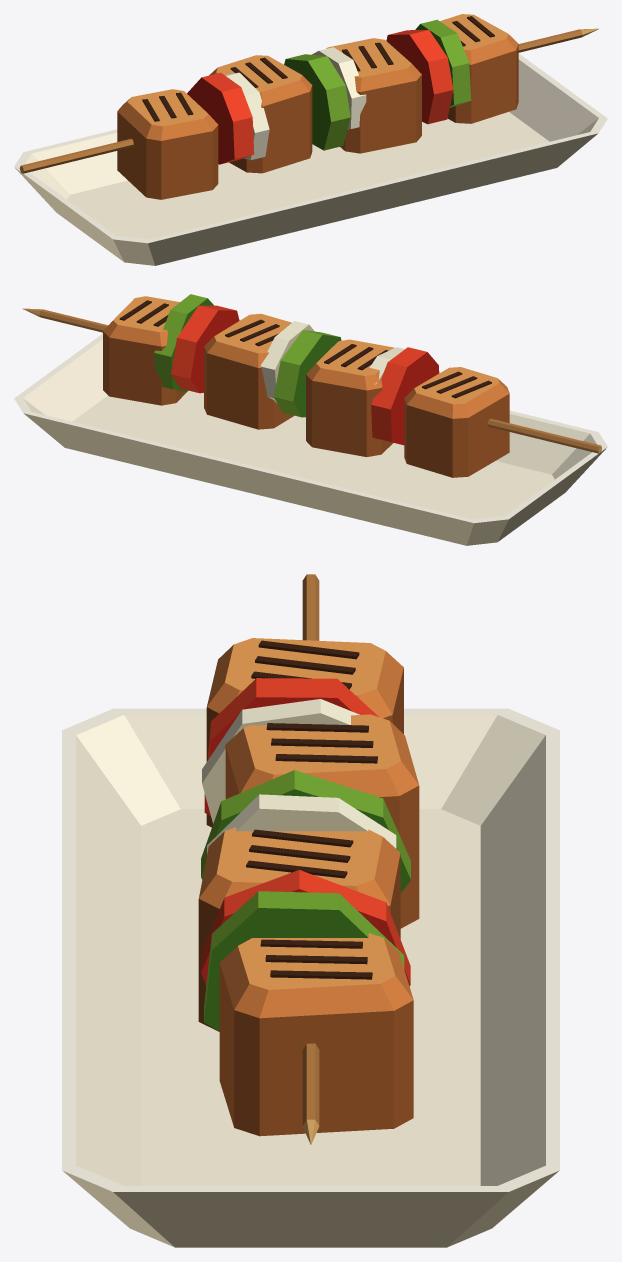
The model's file is Kabob.fbx.
The picture shows the model from 3 angles, top to bottom: view 1: azimuth 30°, elevation 25°; view 2: azimuth 150°, elevation 25°; view 3: azimuth 270°, elevation 25°; orthographic projection. The views are drawn at different scales.
Parts seen in each view (by area): view 1: Kabob_Body; view 2: Kabob_Body; view 3: Kabob_Body.
Boxes of the visible parts, x1,y1,x2,y2 form: Kabob_Body: [14, 14, 607, 265]; Kabob_Body: [14, 294, 607, 545]; Kabob_Body: [62, 574, 559, 1247].
Size of what is drawn, in the model's own units: 0.236 by 0.0499 by 0.088.
1 material, 1 textured.
